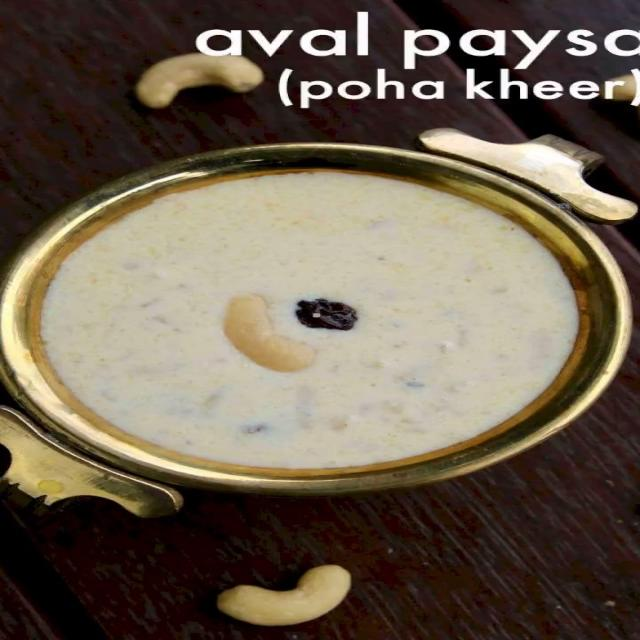Kheer: (25, 158, 597, 492)
